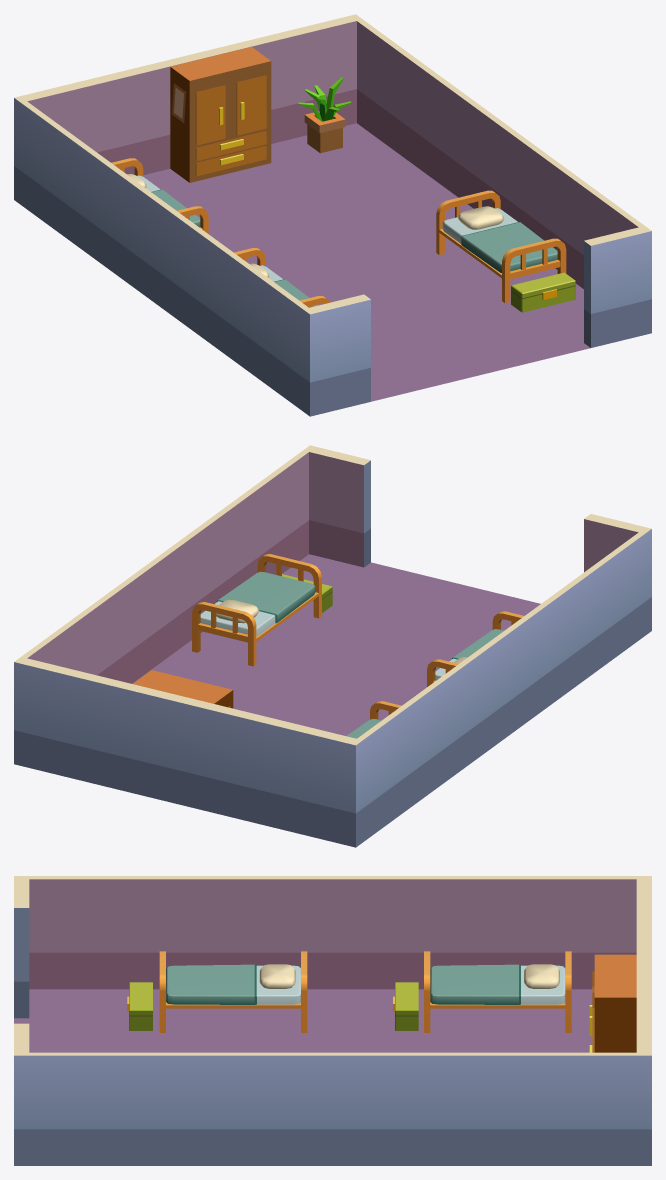
Rendered from Barrack_Lv1_VIP.fbx.
3 views of the same model, one above another, from view 1: azimuth 30°, elevation 25°; view 2: azimuth 150°, elevation 25°; view 3: azimuth 270°, elevation 25° (orthographic). The views are drawn at different scales.
Parts seen in each view (by area): view 1: unit124, wall_half8, wall_half9, wall33, pCube31, wall35, wall34, Bed3, tree, small_chest8, Bed1, Bed2; view 2: wall33, unit124, wall_half8, wall_half9, Bed3, wall34, wall35, pCube31, Bed2, Bed1; view 3: wall_half9, wall_half8, unit124, Bed2, Bed1, wall33, pCube31, wall35, wall34, small_chest6, small_chest7.
Part boxes in pixels (left/top/right/bottom): unit124: left=143, top=123, right=590, bottom=401; wall_half8: left=14, top=98, right=308, bottom=410; wall_half9: left=351, top=15, right=646, bottom=288; wall33: left=14, top=14, right=362, bottom=203; pCube31: left=170, top=47, right=271, bottom=182; wall35: left=303, top=294, right=370, bottom=416; wall34: left=584, top=227, right=651, bottom=347; Bed3: left=436, top=190, right=566, bottom=302; tree: left=298, top=77, right=351, bottom=153; small_chest8: left=511, top=272, right=575, bottom=312; Bed1: left=111, top=158, right=208, bottom=233; Bed2: left=234, top=248, right=330, bottom=307; wall33: left=15, top=657, right=362, bottom=845; unit124: left=132, top=554, right=540, bottom=735; wall_half8: left=349, top=530, right=646, bottom=847; wall_half9: left=14, top=448, right=311, bottom=765; Bed3: left=192, top=554, right=321, bottom=666; wall34: left=306, top=445, right=370, bottom=567; wall35: left=584, top=514, right=651, bottom=635; pCube31: left=133, top=670, right=233, bottom=708; Bed2: left=427, top=611, right=523, bottom=686; Bed1: left=346, top=701, right=401, bottom=738; wall_half9: left=23, top=1052, right=651, bottom=1165; wall_half8: left=23, top=876, right=651, bottom=989; unit124: left=14, top=989, right=592, bottom=1052; Bed2: left=159, top=951, right=307, bottom=1032; Bed1: left=424, top=951, right=571, bottom=1032; wall33: left=636, top=876, right=651, bottom=1165; pCube31: left=589, top=954, right=636, bottom=1052; wall35: left=14, top=876, right=29, bottom=1018; wall34: left=14, top=1023, right=29, bottom=1165; small_chest6: left=393, top=982, right=418, bottom=1030; small_chest7: left=127, top=982, right=152, bottom=1030.
Size of the model in its own units: 700 by 202 by 1050.
